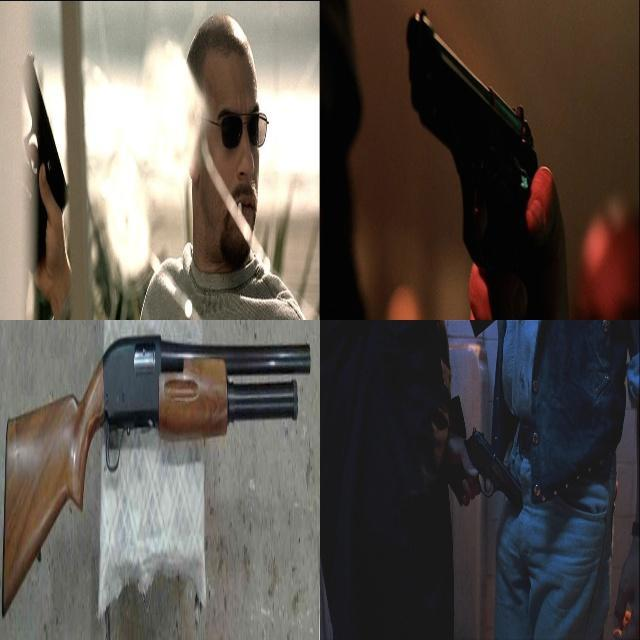gun-knife-thesis - v11 Yolov5 augmented: (0, 319, 311, 612), (402, 0, 547, 319), (22, 65, 65, 261), (445, 418, 524, 520)
